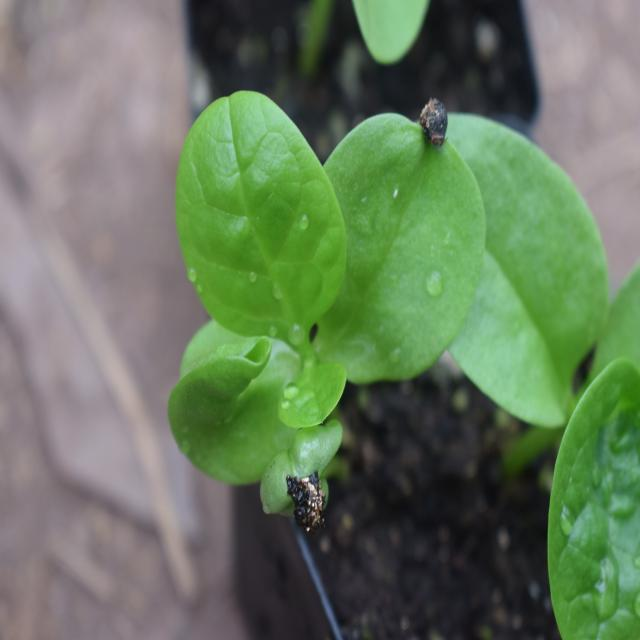Ceylon spinach: (147, 43, 494, 514)
